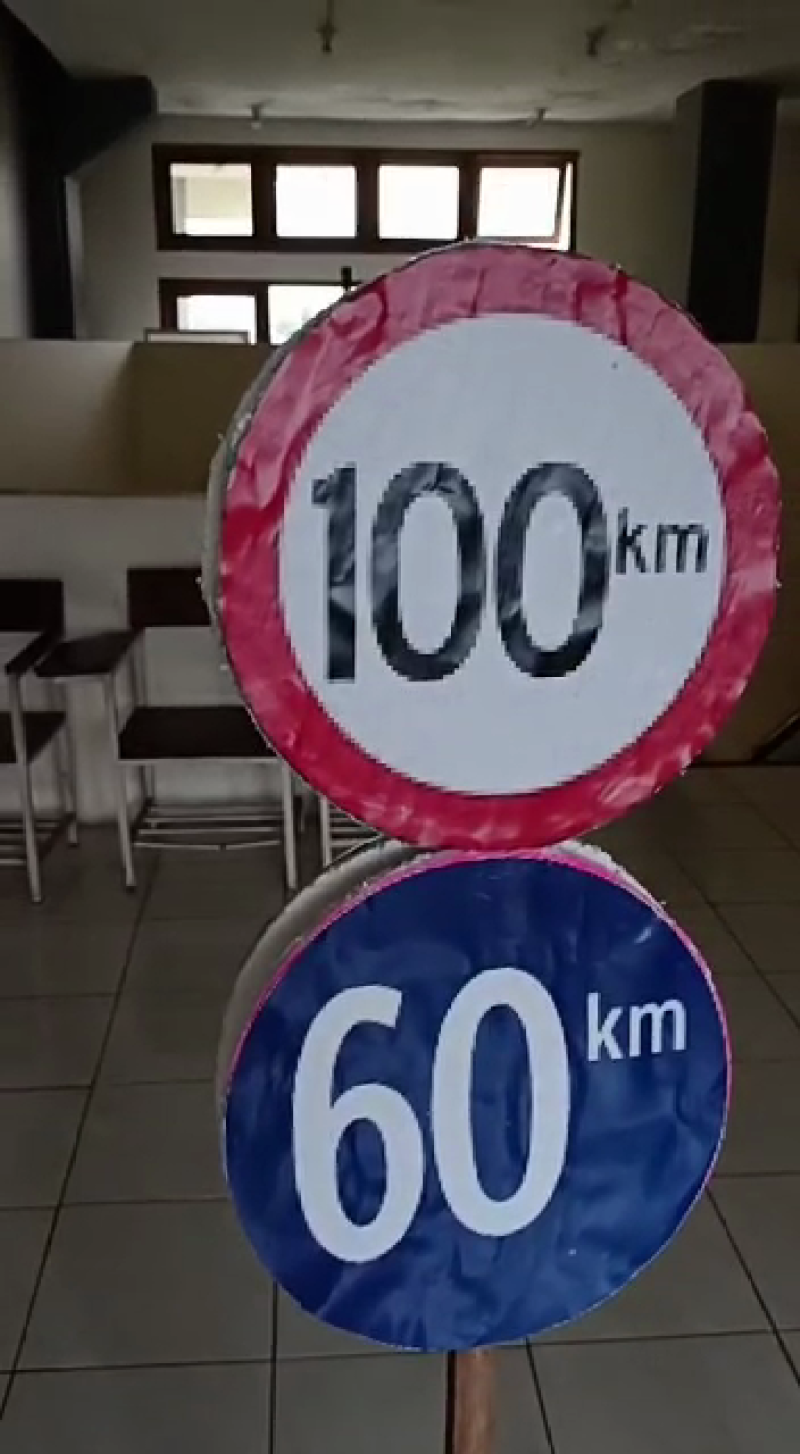batas maksimal 100kmperjam minimal 60kmperjam: (175, 228, 800, 1361)
